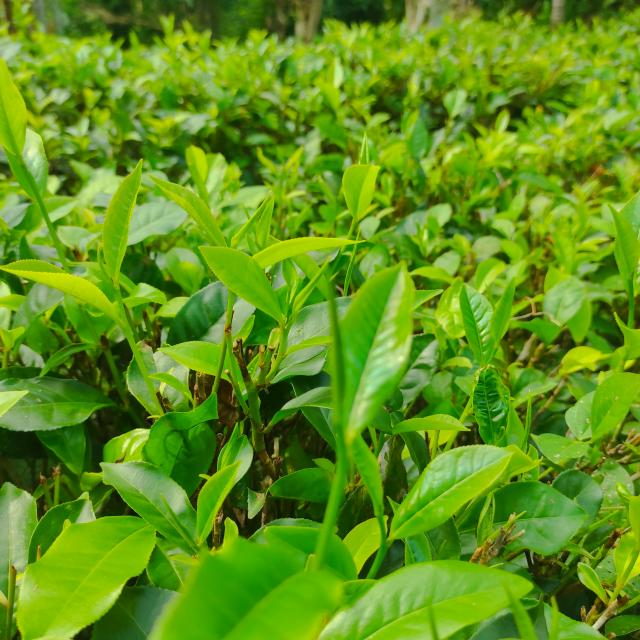unopened_leaf: (316, 258, 355, 460), (286, 250, 334, 326), (229, 187, 279, 252), (162, 495, 206, 559), (498, 575, 540, 640), (337, 230, 368, 299), (482, 506, 534, 543), (217, 416, 246, 475), (95, 237, 119, 294), (420, 587, 444, 640), (350, 200, 386, 232), (518, 385, 534, 451)
